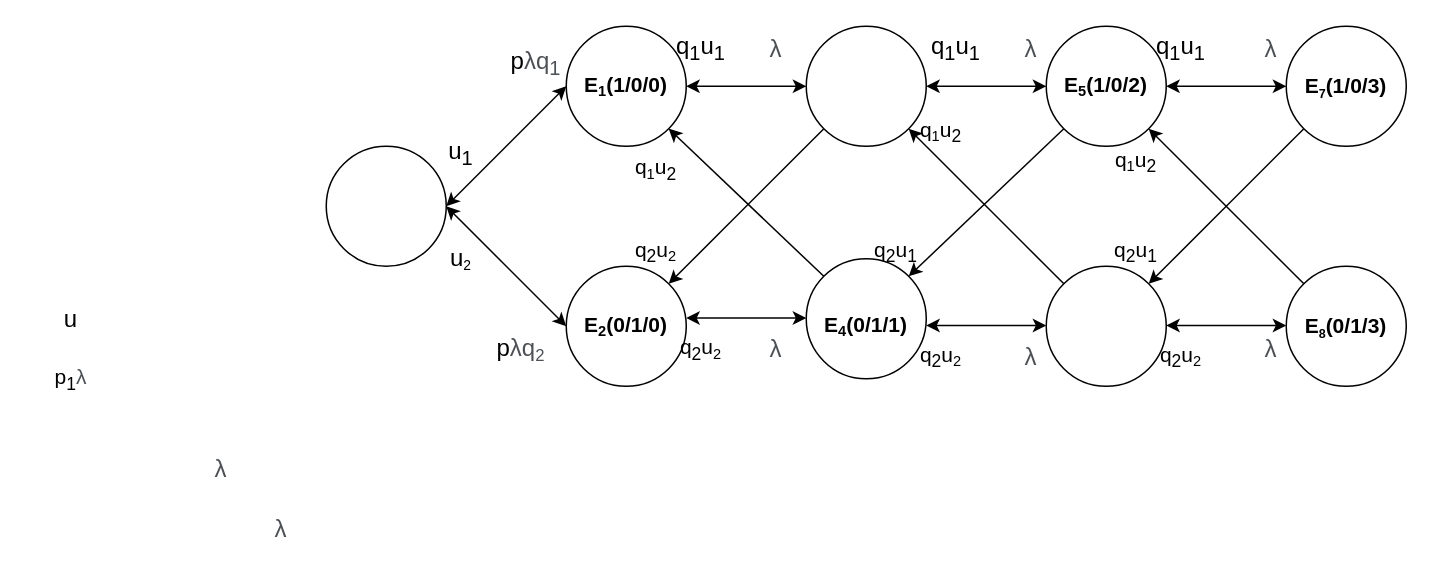
The diagram is 1433 pixels wide and 578 high, and some of its shapes have lost their labels. The centre of each missing label's shape, as x and y in pixels:
"E 0 (0/0/0)" goes at point 385,205.
"E 3 (1/0/1)" goes at point 865,85.
"E 6 (0/1/2)" goes at point 1105,325.
